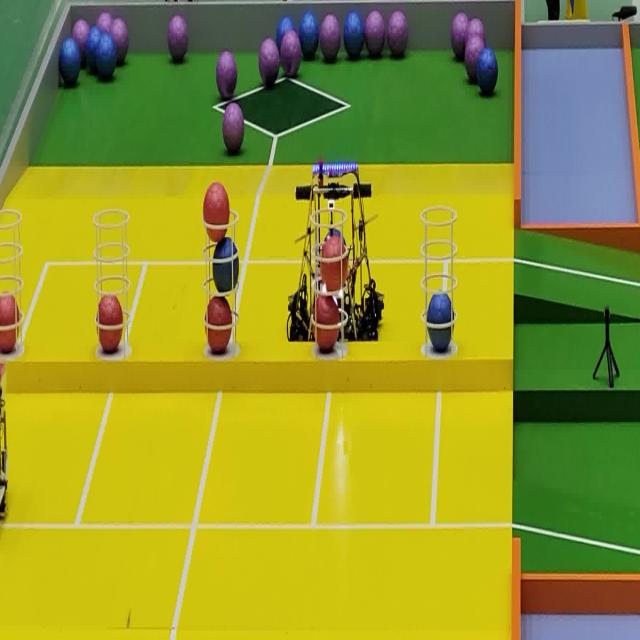blue_ball: (212, 240, 240, 293), (428, 294, 453, 348), (59, 40, 81, 89), (299, 11, 320, 59), (344, 10, 364, 60), (95, 40, 117, 85), (479, 48, 498, 95), (86, 30, 102, 71), (277, 16, 295, 31)
purple_ball: (221, 103, 246, 153), (216, 49, 237, 99), (320, 14, 340, 64), (168, 13, 188, 61), (388, 11, 409, 56), (365, 11, 385, 57), (259, 40, 279, 85), (282, 34, 300, 79), (451, 12, 467, 60), (464, 37, 479, 88), (116, 18, 129, 62), (466, 20, 486, 40), (72, 18, 86, 39), (96, 13, 112, 31)
red_ball: (312, 291, 341, 348), (205, 294, 233, 353), (204, 184, 230, 240), (97, 297, 123, 349), (321, 240, 348, 290), (0, 291, 21, 355)
